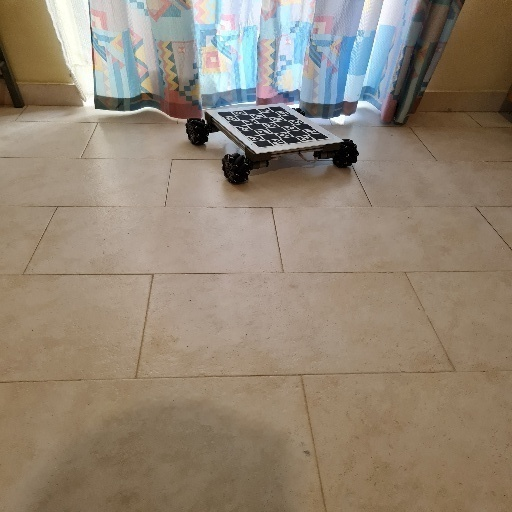Omniwheel: (185, 102, 362, 185)
